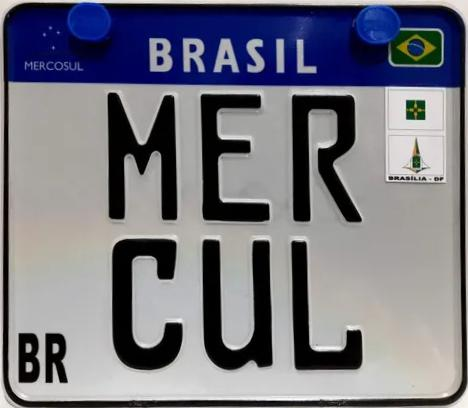Placa_mercosul_carro: (10, 11, 463, 401)
